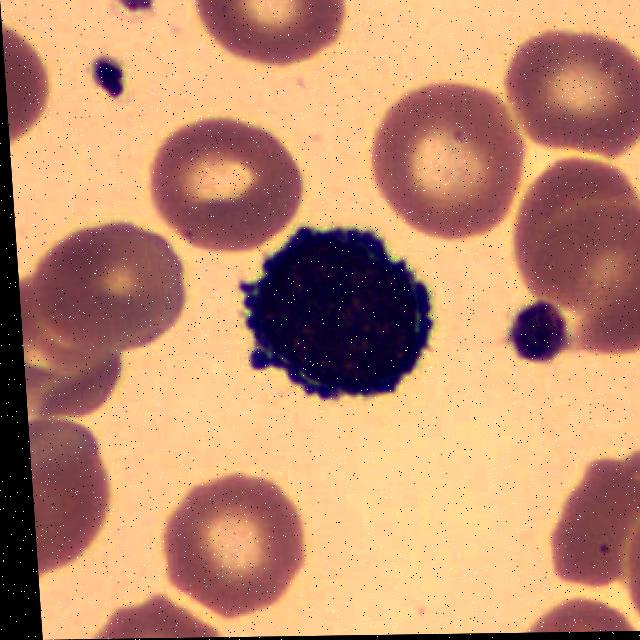lymphocyte: (230, 218, 453, 418)
platelets: (504, 299, 568, 371), (84, 55, 139, 105)
rbc: (148, 473, 314, 615), (19, 217, 187, 351), (18, 268, 144, 433), (370, 90, 516, 229), (146, 121, 305, 248), (502, 163, 640, 297), (502, 36, 640, 162), (28, 424, 130, 569), (533, 450, 640, 583), (544, 240, 640, 353), (193, 0, 347, 61), (2, 31, 63, 142), (80, 601, 236, 638), (524, 592, 640, 633), (616, 500, 640, 631)
